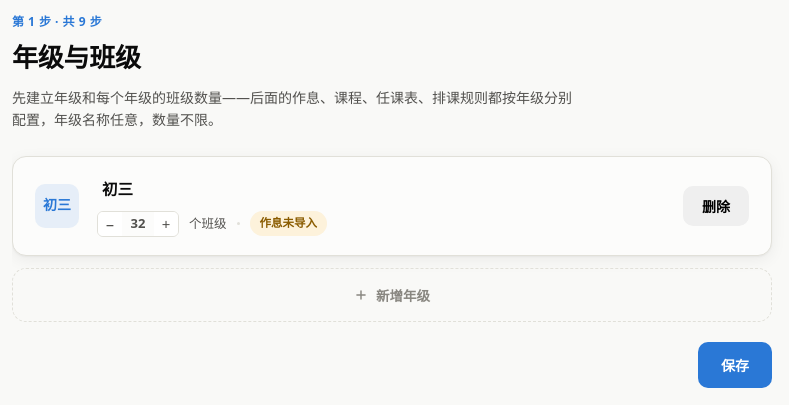
Test: GradesSettings › deleting a row requires a confirm click first
Step 1. Click the button with test id "remove-grade" → (716, 206), box left=683, top=186, right=749, bottom=226
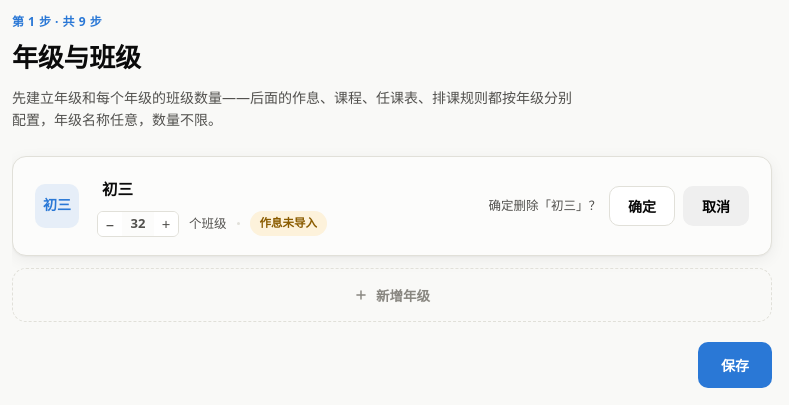
Expected: the number of elements with test id "grade-row" is 1, left=12, top=156, right=772, bottom=256
Expected: the button with test id "confirm-delete" is shown
Step 2. Click the button with test id "confirm-delete" → (642, 206), box left=609, top=186, right=675, bottom=226
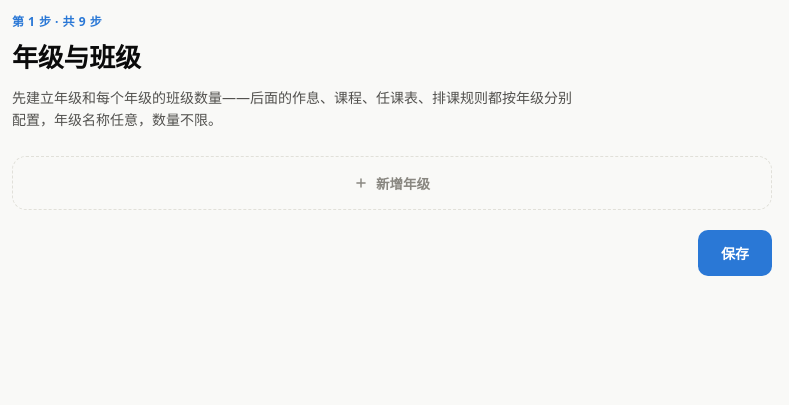
Expected: no elements with test id "grade-row" are shown
